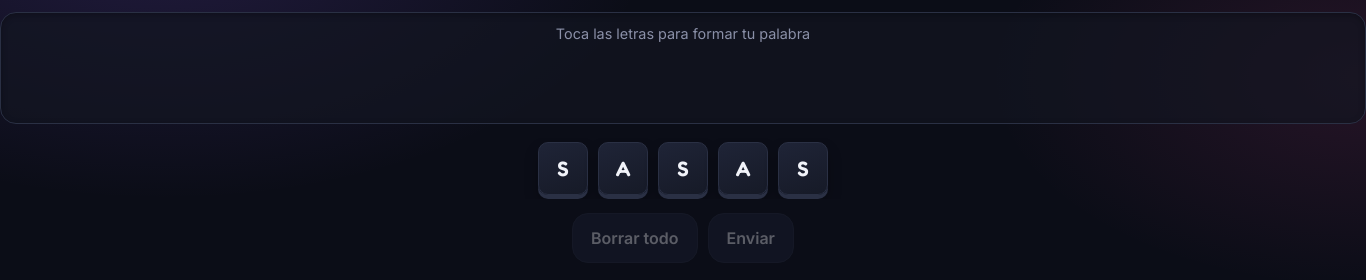
LetterBoard › trata cada aparición de una letra repetida como una ficha independiente
This screenshot has width=1366, height=280.
Click the 1st button "S". click: click(563, 169)
box: [538,142,588,195]
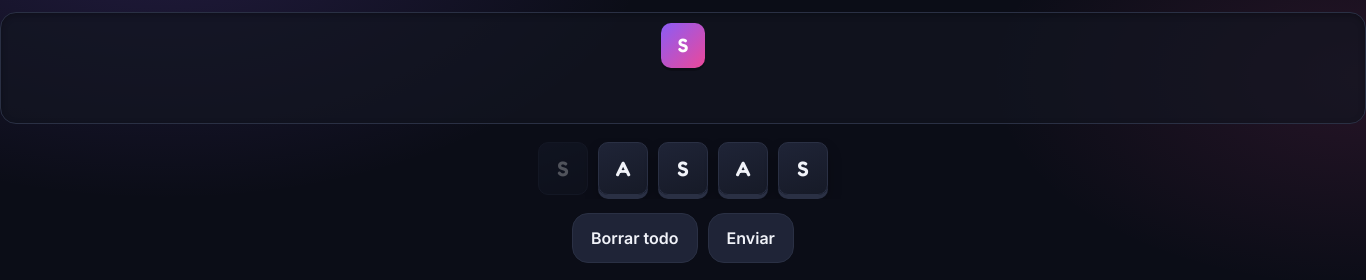
Expected: the 3rd button "S" is enabled, [658,142,708,195]
Result: the 2nd button "S" is disabled at [538,142,588,195]
